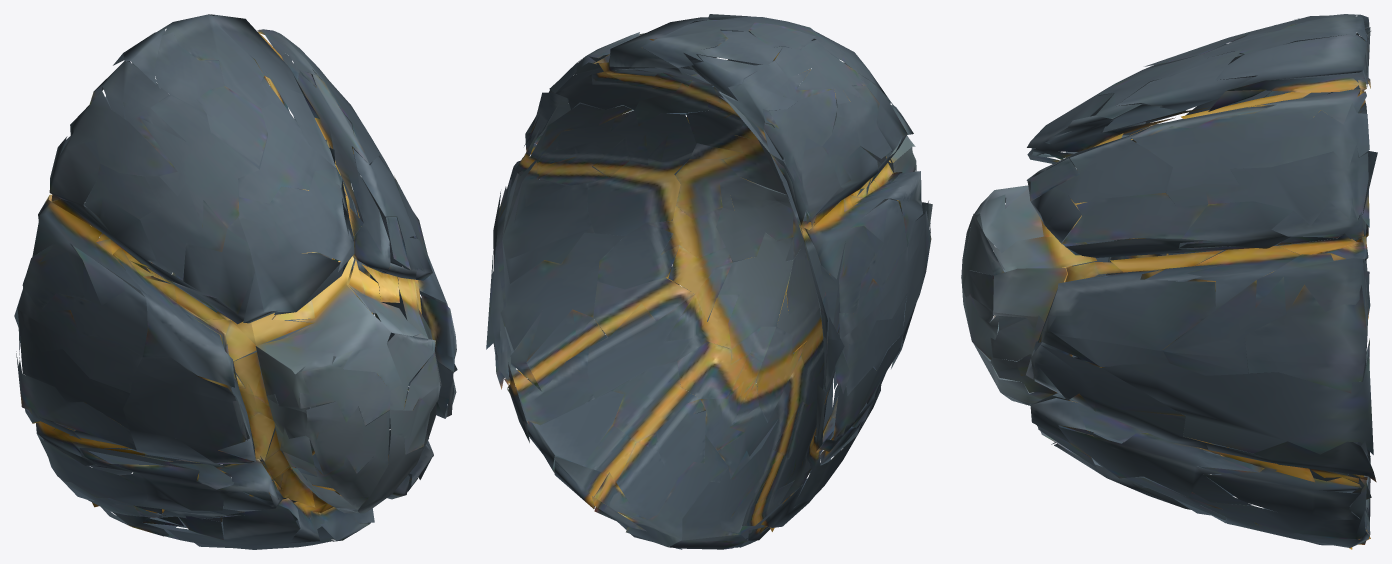
Rendered from titan.glb.
3 views of the same model, side by side, from view 1: azimuth 30°, elevation 25°; view 2: azimuth 150°, elevation 25°; view 3: azimuth 270°, elevation 25° (orthographic).
Visible parts, largest first — view 1: Cap, Cup; view 2: Cup, Cap; view 3: Cap, Cup.
Boxes of the visible parts, bbox=[...] form: Cap: bbox=[16, 14, 456, 417]; Cup: bbox=[14, 247, 457, 549]; Cup: bbox=[486, 152, 932, 549]; Cap: bbox=[492, 14, 932, 340]; Cap: bbox=[961, 14, 1377, 364]; Cup: bbox=[961, 222, 1376, 549].
Size of the model in its own units: 0.7411 by 1 by 0.7481.
1 material, 1 textured.
